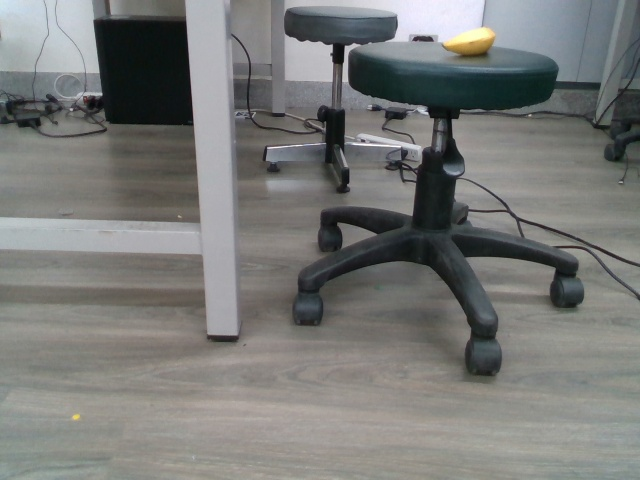banana: (442, 25, 501, 58)
